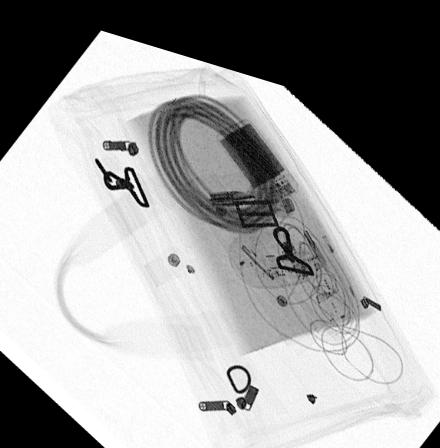Powerbank: (216, 101, 299, 194)
